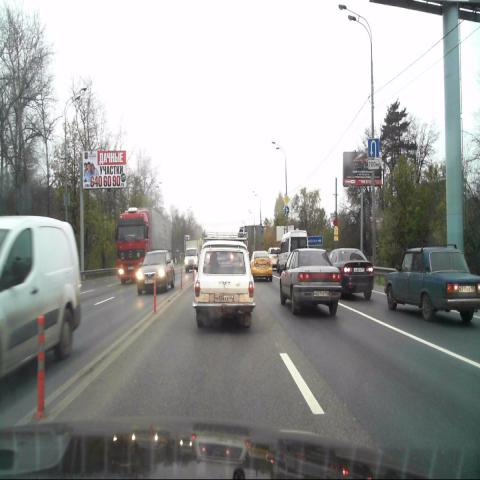6_3_1: (368, 138, 378, 158)
